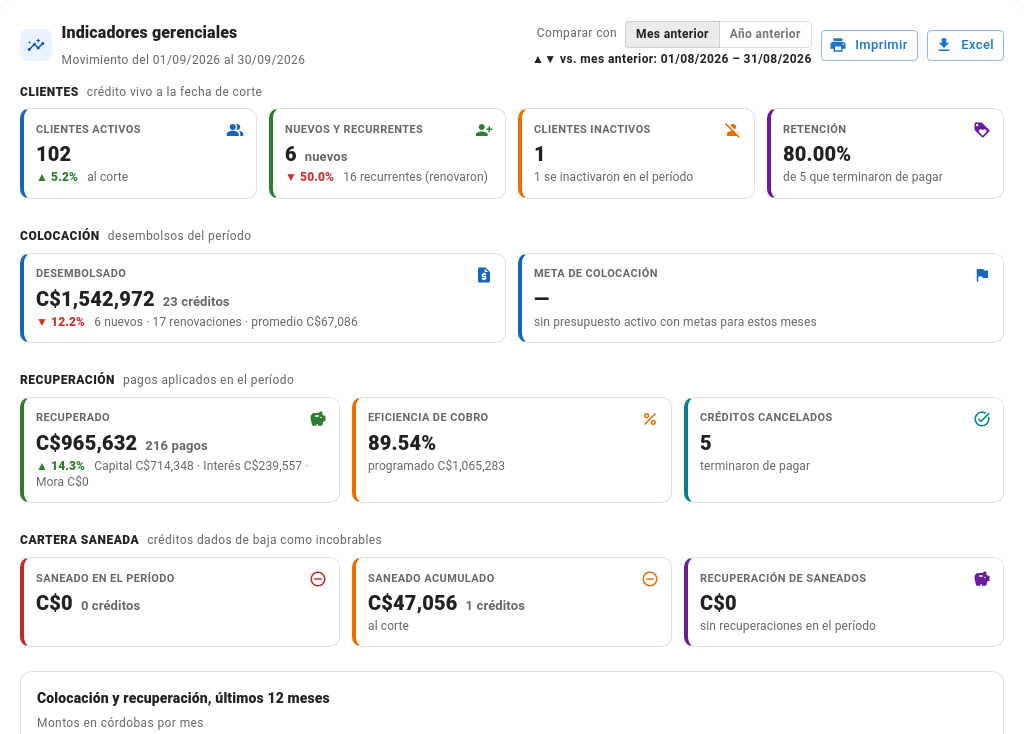
Scenario: ManagementDashboard (tablero gerencial) › compara por mes (por omisión) o por año, e indica el período anterior
This screenshot has width=1024, height=734.
Expected: the text "▲▼ vs. mes anterior: 01/08/2026 – 31/08/2026" is shown, [532,50,812,70]
Click the button "Año anterior".
click(765, 34)  # box [719,21,812,48]
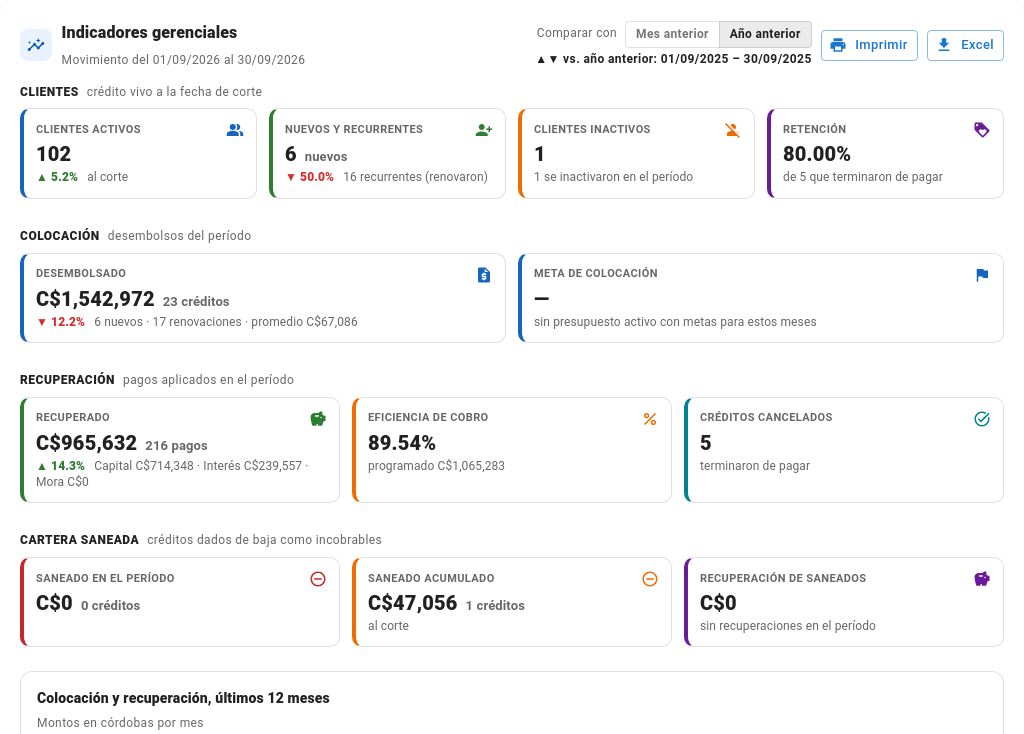
Now the text "▲▼ vs. año anterior: 01/09/2025 – 30/09/2025" is shown, box [535,50,812,70]
